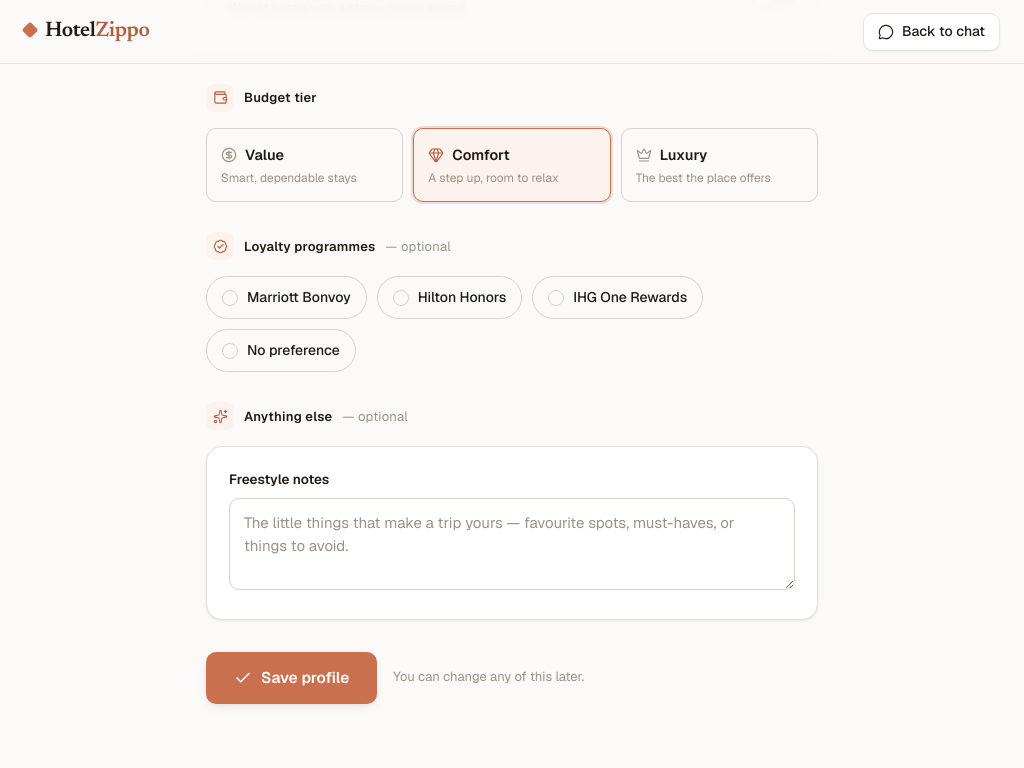
Scenario: FamilyProfileForm — validation › does NOT submit with an empty name and shows the error
(page scrolled)
Click the button "Save profile": (292, 678) [206, 652, 377, 704]
(page scrolled)
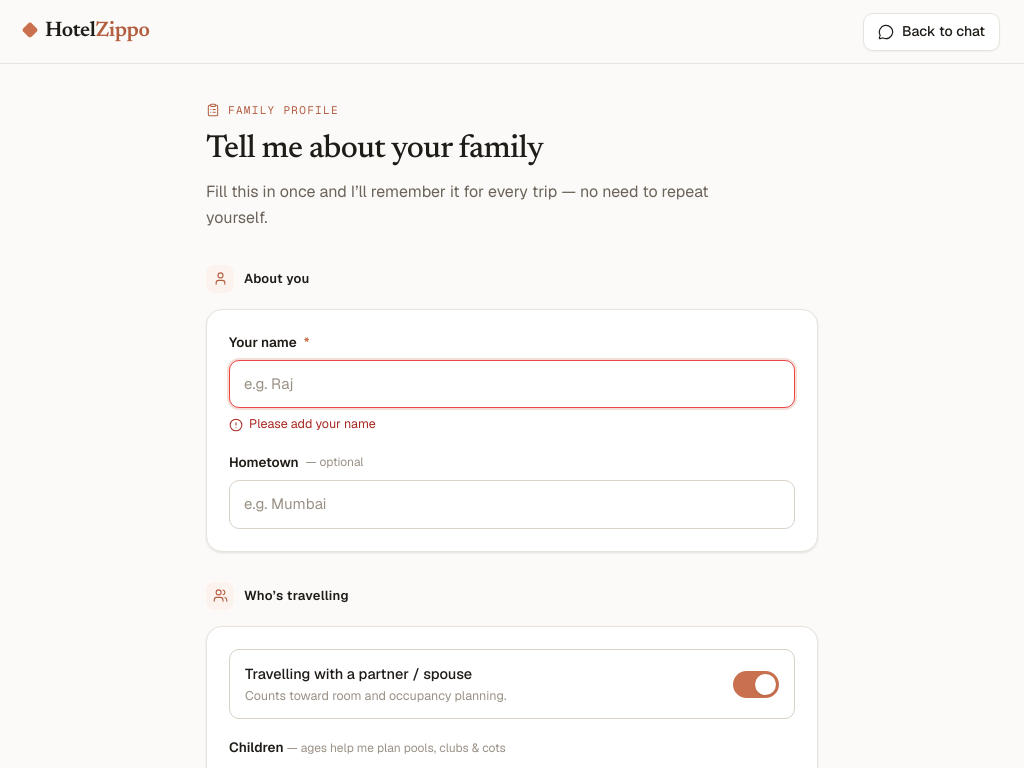
Check: the text "Please add your name" is shown, box [229, 415, 376, 432]
